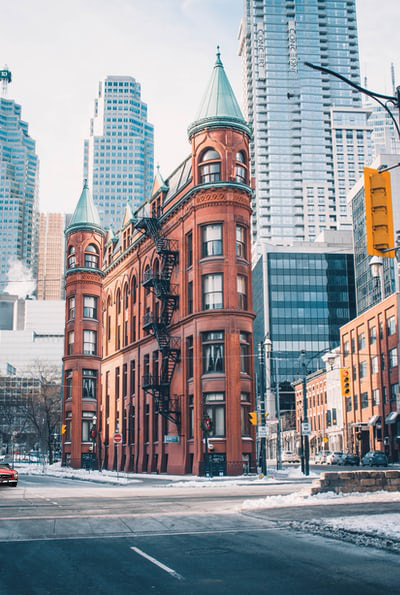copymove: (63, 171, 104, 272)
removal: (280, 43, 306, 137)
spliced: (1, 462, 19, 488)
